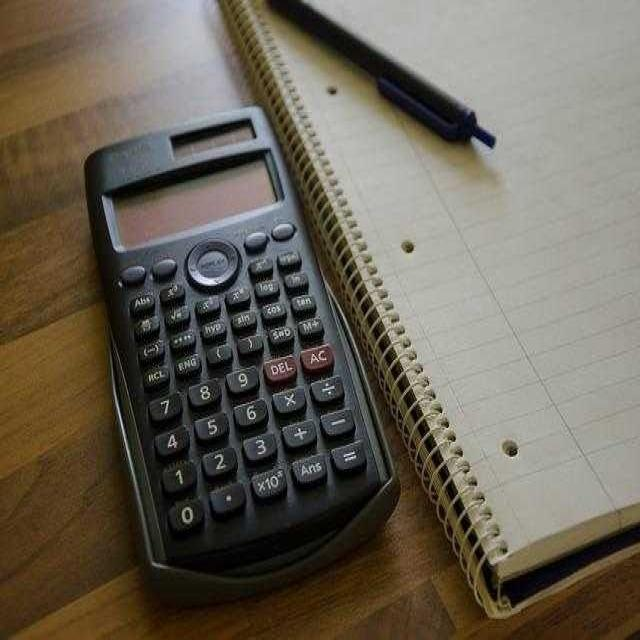Calculator: (86, 106, 398, 587)
